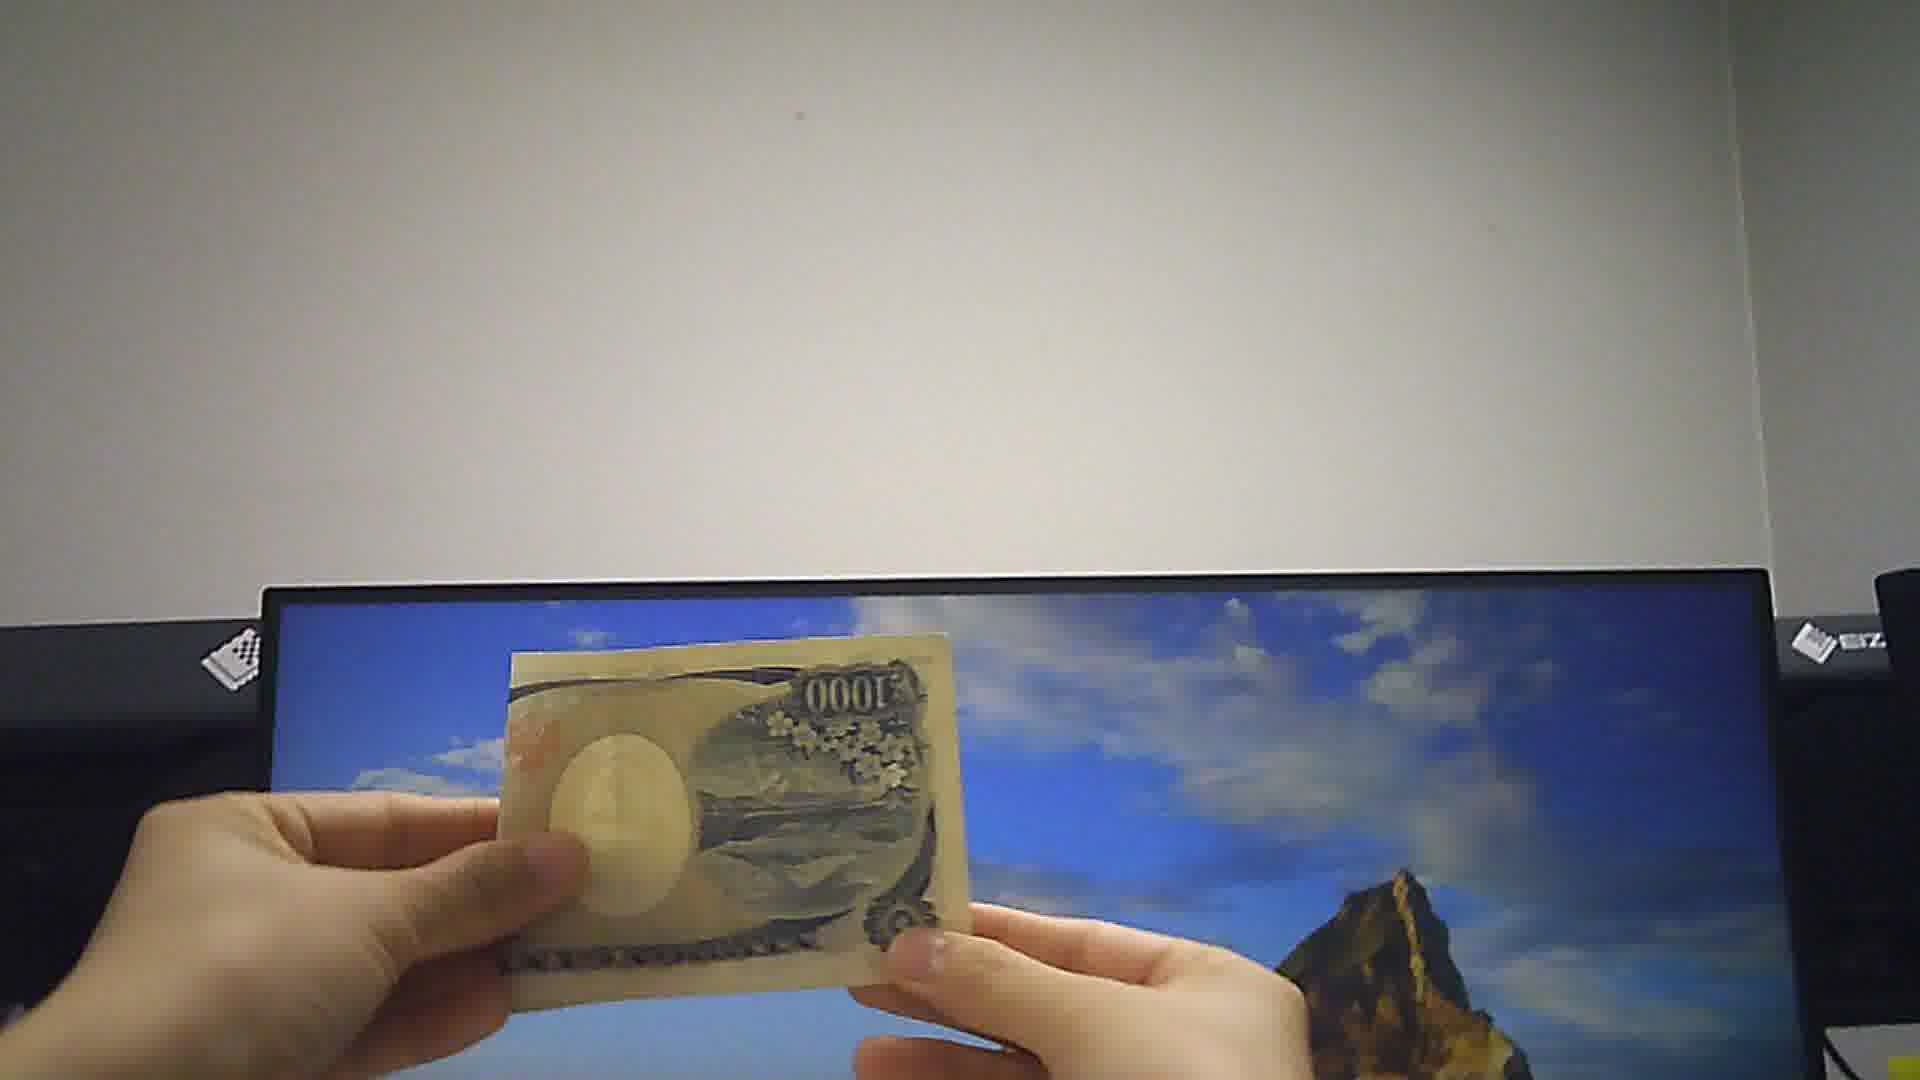1,000 Yen: (488, 624, 997, 1033)
